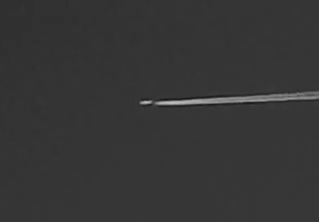Target: (140, 101, 152, 105)
